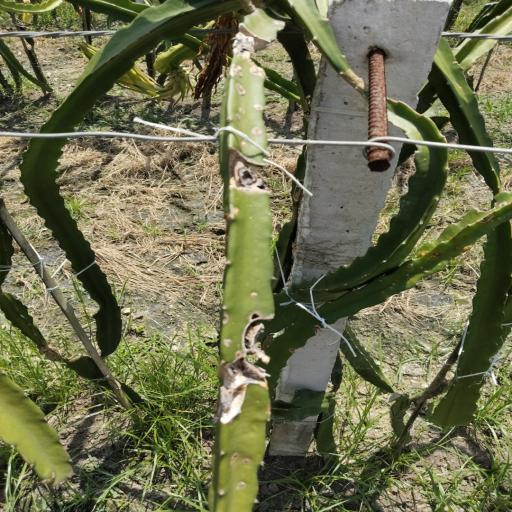stemcanker: (226, 444, 254, 494), (232, 102, 264, 137), (226, 450, 254, 468), (221, 334, 242, 356), (230, 452, 253, 471), (378, 277, 398, 296), (220, 338, 242, 355), (231, 107, 254, 122), (245, 281, 262, 301), (246, 287, 267, 303), (231, 200, 245, 224), (402, 263, 415, 288), (232, 452, 249, 470), (230, 454, 251, 468), (230, 452, 251, 465), (234, 478, 249, 496), (236, 480, 251, 496), (247, 291, 267, 303), (234, 478, 252, 491), (251, 124, 265, 139), (221, 338, 235, 351), (219, 312, 232, 326), (221, 312, 235, 325), (239, 140, 250, 155), (220, 311, 229, 329), (232, 481, 248, 491), (427, 252, 443, 262), (491, 215, 511, 223), (420, 262, 432, 274), (222, 339, 236, 349), (249, 291, 263, 300), (255, 103, 268, 112), (247, 292, 260, 300), (236, 480, 246, 490), (223, 340, 233, 350), (241, 139, 250, 150), (240, 458, 252, 466), (452, 244, 464, 252), (250, 292, 262, 300), (251, 291, 260, 300), (254, 397, 263, 406), (230, 452, 239, 460), (435, 262, 444, 267)
